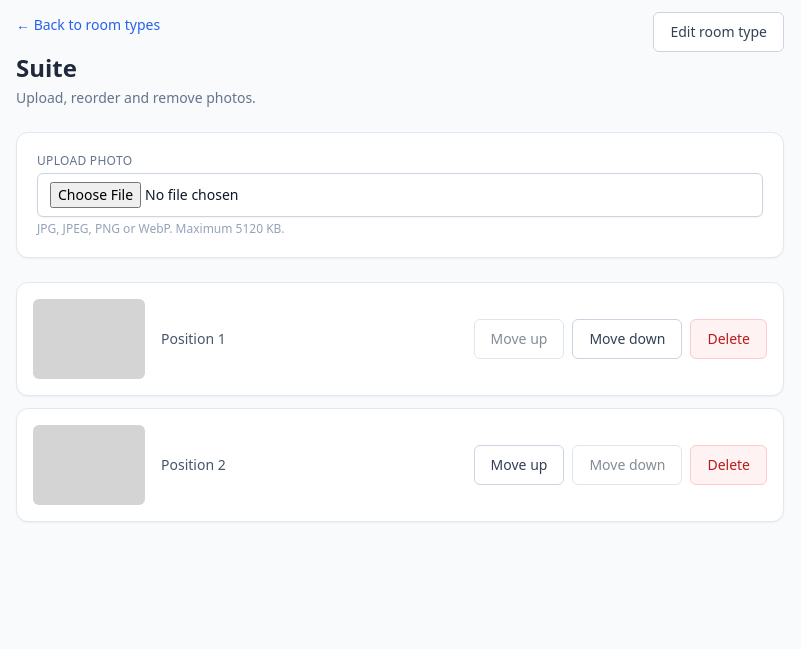
Staff room type images page › deletes an image after confirmation
Click the 1st button "Delete": [729, 339] box [690,319,767,359]
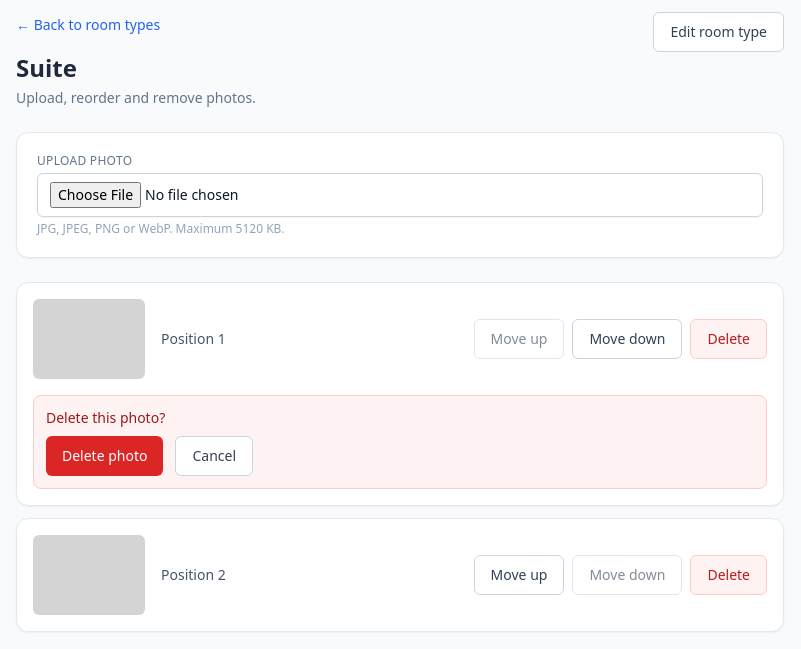
Expected: the text "Delete this photo?" is shown, [46,408,165,427]
Click the button "Delete photo": [105, 456] box [46,436,164,476]
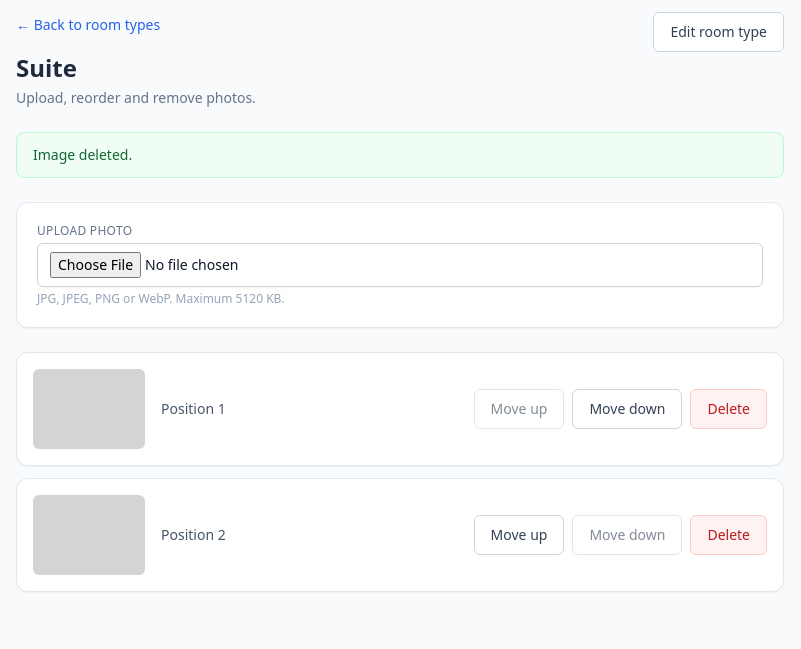
Expected: the text "Image deleted." is shown, [16,132,784,178]
